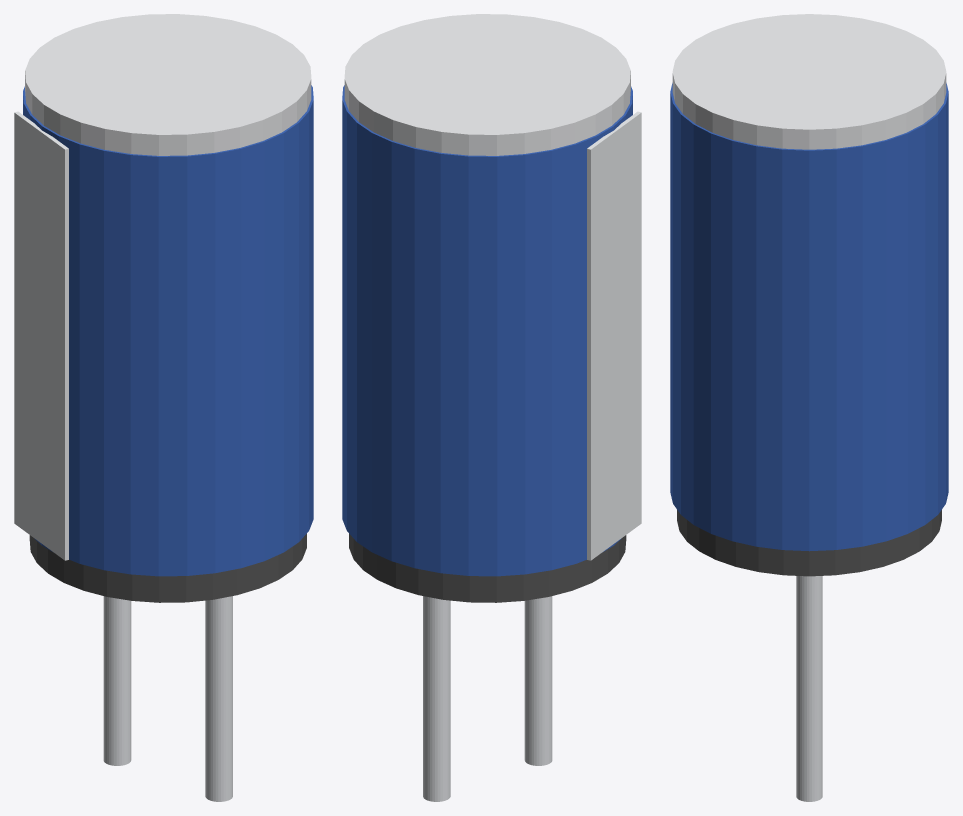
File: capacitor_electrolytic.glb
The picture shows the model from 3 angles, left to right: view 1: azimuth 30°, elevation 25°; view 2: azimuth 150°, elevation 25°; view 3: azimuth 270°, elevation 25°; orthographic projection. The views are drawn at different scales.
Visible parts, largest first — view 1: Cap_Can_Body, Cap_Aluminum_Vent, Cap_Polarity_Stripe, Cap_Rubber_Plug, Cap_Positive_Lead, Cap_Negative_Lead; view 2: Cap_Can_Body, Cap_Aluminum_Vent, Cap_Polarity_Stripe, Cap_Rubber_Plug, Cap_Positive_Lead, Cap_Negative_Lead; view 3: Cap_Can_Body, Cap_Aluminum_Vent, Cap_Rubber_Plug, Cap_Positive_Lead.
Boxes of the visible parts, x1,y1,x2,y2 form: Cap_Can_Body: (23, 85, 313, 576); Cap_Aluminum_Vent: (25, 14, 311, 155); Cap_Polarity_Stripe: (14, 111, 68, 560); Cap_Rubber_Plug: (29, 533, 306, 602); Cap_Positive_Lead: (205, 596, 232, 801); Cap_Negative_Lead: (103, 596, 131, 765); Cap_Can_Body: (342, 85, 632, 576); Cap_Aluminum_Vent: (344, 14, 630, 155); Cap_Polarity_Stripe: (587, 111, 641, 560); Cap_Rubber_Plug: (349, 533, 626, 602); Cap_Positive_Lead: (423, 596, 450, 801); Cap_Negative_Lead: (524, 596, 552, 765); Cap_Can_Body: (670, 83, 948, 551); Cap_Aluminum_Vent: (672, 14, 946, 149); Cap_Rubber_Plug: (677, 510, 941, 576); Cap_Positive_Lead: (796, 576, 822, 801).
Size of the model in its own units: 0.00636 by 0.0175 by 0.0063.
